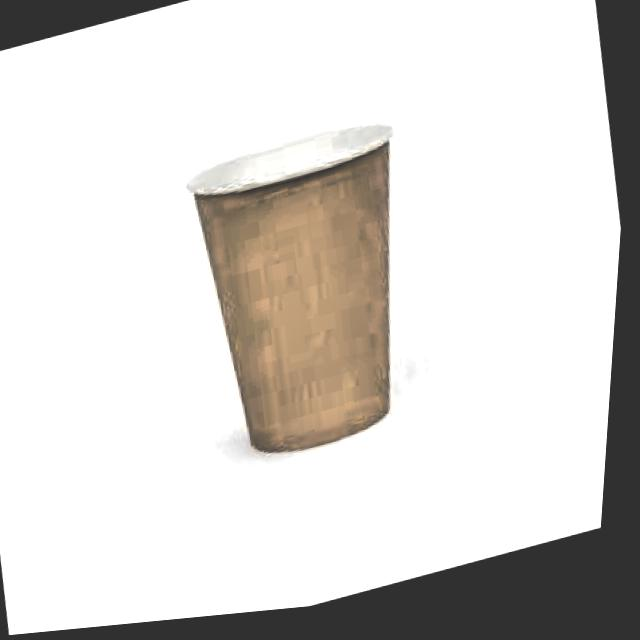Cup: (162, 104, 442, 498)
